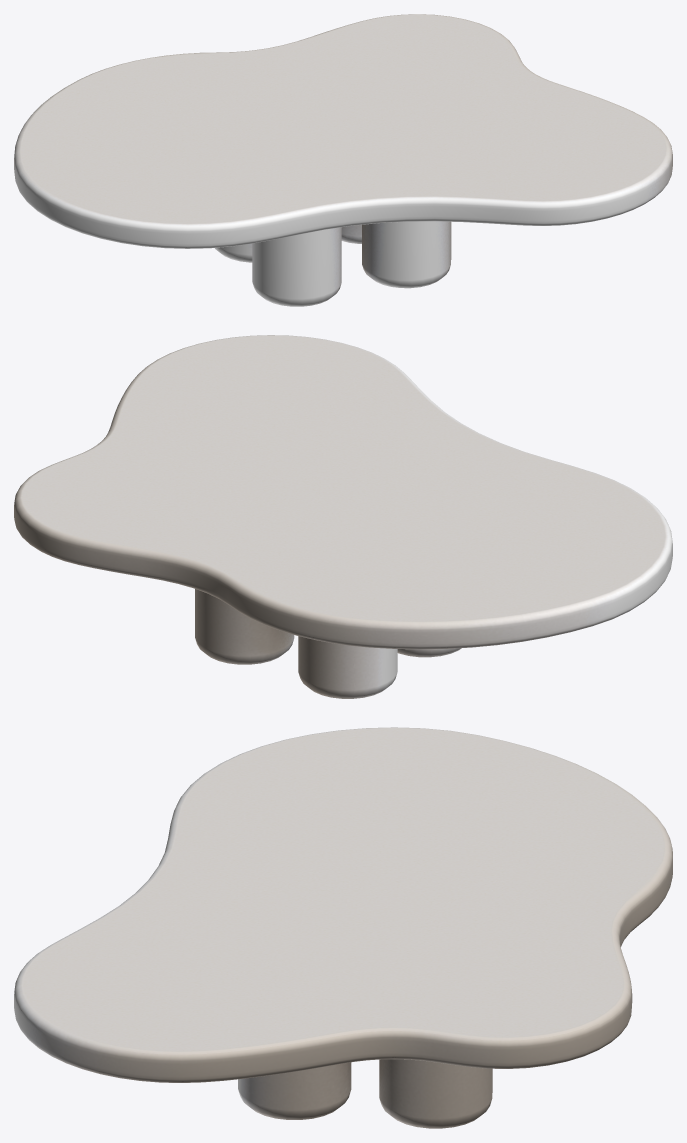
The model's file is Kumo White.glb.
3 renders of one model, top to bottom at view 1: azimuth 30°, elevation 25°; view 2: azimuth 150°, elevation 25°; view 3: azimuth 270°, elevation 25°, orthographic. The views are drawn at different scales.
Visible parts, largest first — view 1: kumo; view 2: kumo; view 3: kumo.
Part boxes in pixels (<box>): kumo: <box>14,14,672,306</box>; kumo: <box>14,335,672,698</box>; kumo: <box>14,727,672,1128</box>.
Bounding box in the file's own units: 1.14 × 0.2781 × 0.9615.
1 material, 1 textured.
